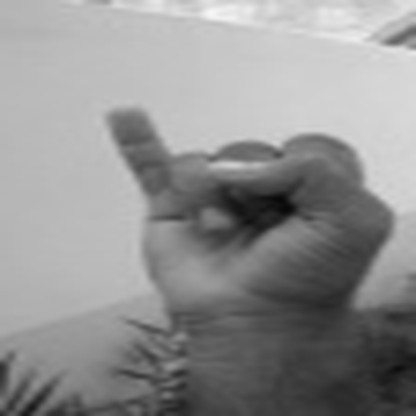i: (97, 97, 399, 317)
